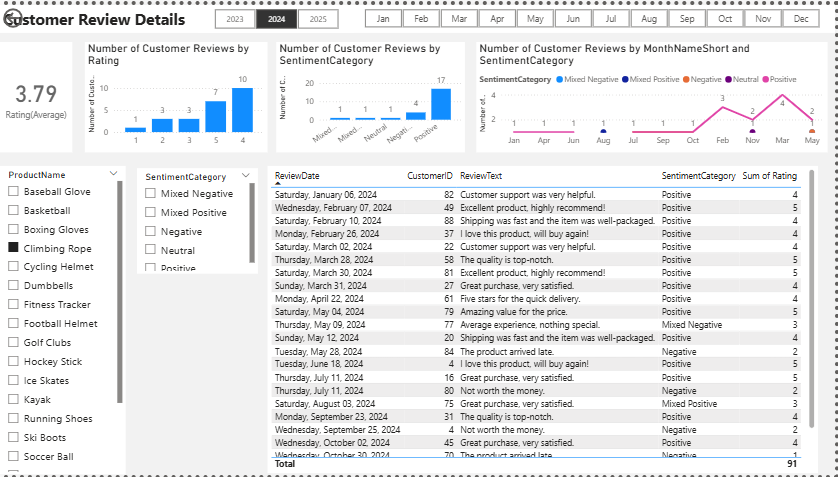

The dashboard page shown, as its layout file describes it:
{"tool":"powerbi","page":{"name":"Customer Review Details","canvas":[1280,720],"ordinal":3},"visuals":[{"type":"textbox","box":[0,0,1280.4,42.9],"z":0},{"type":"slicer","fields":{"Values":["dim_products.ProductName"]},"box":[0,247.3,192.7,472.7],"z":1000},{"type":"card","fields":{"Values":["_Calculations.Rating(Average)"]},"box":[0,58.2,110.9,169.1],"z":2000},{"type":"slicer","fields":{"Values":["Calendar.Year"]},"box":[303.6,0,239.3,42.9],"z":3000},{"type":"slicer","fields":{"Values":["Calendar.MonthNameShort"]},"box":[533.9,0,746.4,39.3],"z":4000},{"type":"actionButton","box":[0,0,100,40],"z":5000},{"type":"clusteredColumnChart","fields":{"Category":["customer_reviews_with_sentiment.Rating"],"Y":["_Calculations.Number of Customer Reviews"]},"box":[130.9,58.2,280,169.1],"z":6000},{"type":"clusteredColumnChart","fields":{"Y":["_Calculations.Number of Customer Reviews"],"Category":["customer_reviews_with_sentiment.SentimentCategory"]},"box":[423.6,58.2,289.1,169.1],"z":7000},{"type":"lineChart","fields":{"Y":["_Calculations.Number of Customer Reviews"],"Series":["customer_reviews_with_sentiment.SentimentCategory"],"Category":["Calendar.MonthNameShort"]},"box":[729.1,58.2,538.2,169.1],"z":8000},{"type":"tableEx","fields":{"Values":["customer_reviews_with_sentiment.ReviewDate","customer_reviews_with_sentiment.CustomerID","customer_reviews_with_sentiment.ReviewText","customer_reviews_with_sentiment.SentimentCategory","Sum(customer_reviews_with_sentiment.Rating)"]},"box":[410.9,247.3,843.6,470.9],"z":9000},{"type":"slicer","fields":{"Values":["customer_reviews_with_sentiment.SentimentCategory"]},"box":[210.9,249.1,185.5,161.8],"z":10000}]}

Visuals, with their boxes in screenshot pixels (x1, y1, x2, y2), scaled from the page's 1280x720 canvas onto the 838x477 screenshot:
textbox: 0:0:837:28
slicer - dim_products.ProductName: 0:164:126:476
card - _Calculations.Rating(Average): 0:39:73:151
slicer - Calendar.Year: 199:0:355:28
slicer - Calendar.MonthNameShort: 350:0:837:26
actionButton: 0:0:65:26
clusteredColumnChart - customer_reviews_with_sentiment.Rating x _Calculations.Number of Customer Reviews: 86:39:269:151
clusteredColumnChart - _Calculations.Number of Customer Reviews x customer_reviews_with_sentiment.SentimentCategory: 277:39:467:151
lineChart - _Calculations.Number of Customer Reviews x customer_reviews_with_sentiment.SentimentCategory: 477:39:830:151
tableEx - customer_reviews_with_sentiment.ReviewDate x customer_reviews_with_sentiment.CustomerID: 269:164:821:476
slicer - customer_reviews_with_sentiment.SentimentCategory: 138:165:260:272
